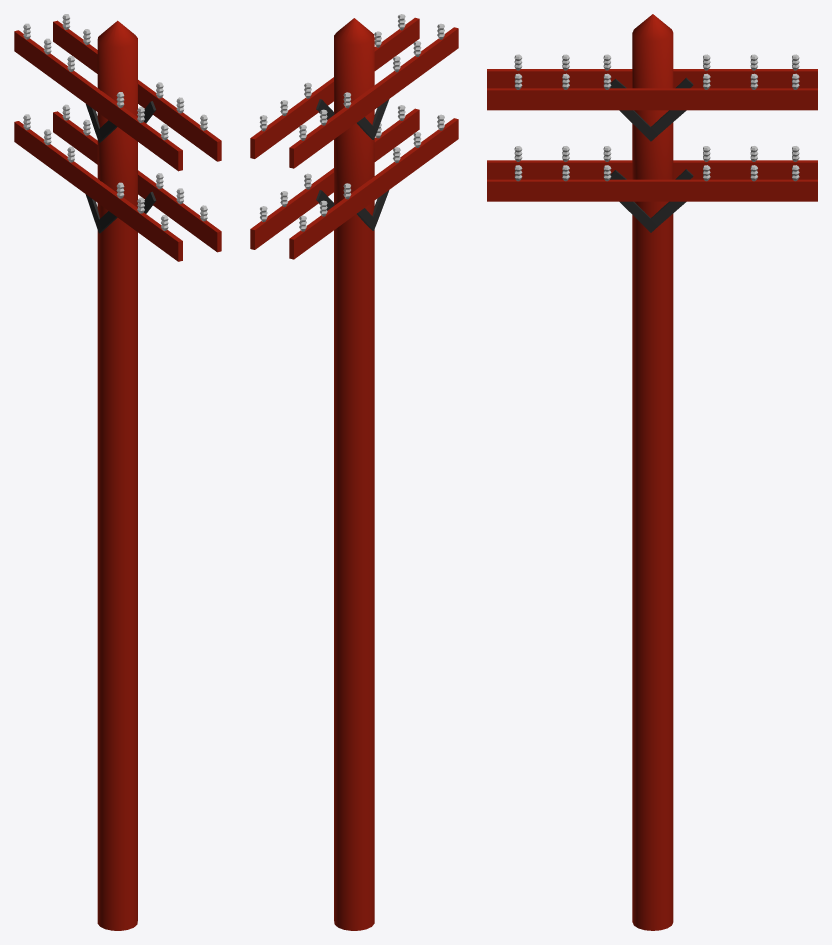
The model's file is pole.obj.
3 views of the same model, side by side, from view 1: azimuth 30°, elevation 25°; view 2: azimuth 150°, elevation 25°; view 3: azimuth 270°, elevation 25° (orthographic).
Visible parts, largest first — view 1: Circle; view 2: Circle; view 3: Circle.
Part boxes in pixels (x1,y1,x2,y2): Circle: (14, 14, 221, 930); Circle: (250, 14, 458, 930); Circle: (487, 14, 817, 930).
Bounding box in the file's own units: 0.6563 × 12.25 × 4.04.
